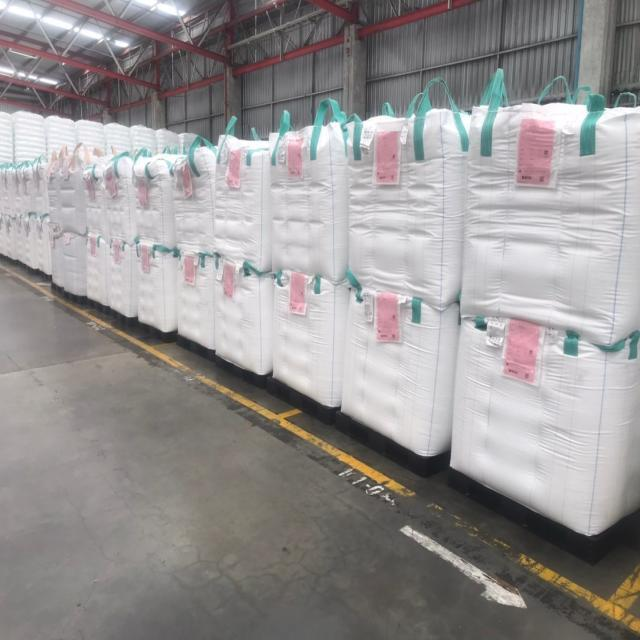gunny_bag: (459, 105, 638, 352), (451, 323, 640, 539), (348, 117, 466, 312), (341, 290, 458, 459), (272, 124, 345, 281), (271, 272, 346, 407)
